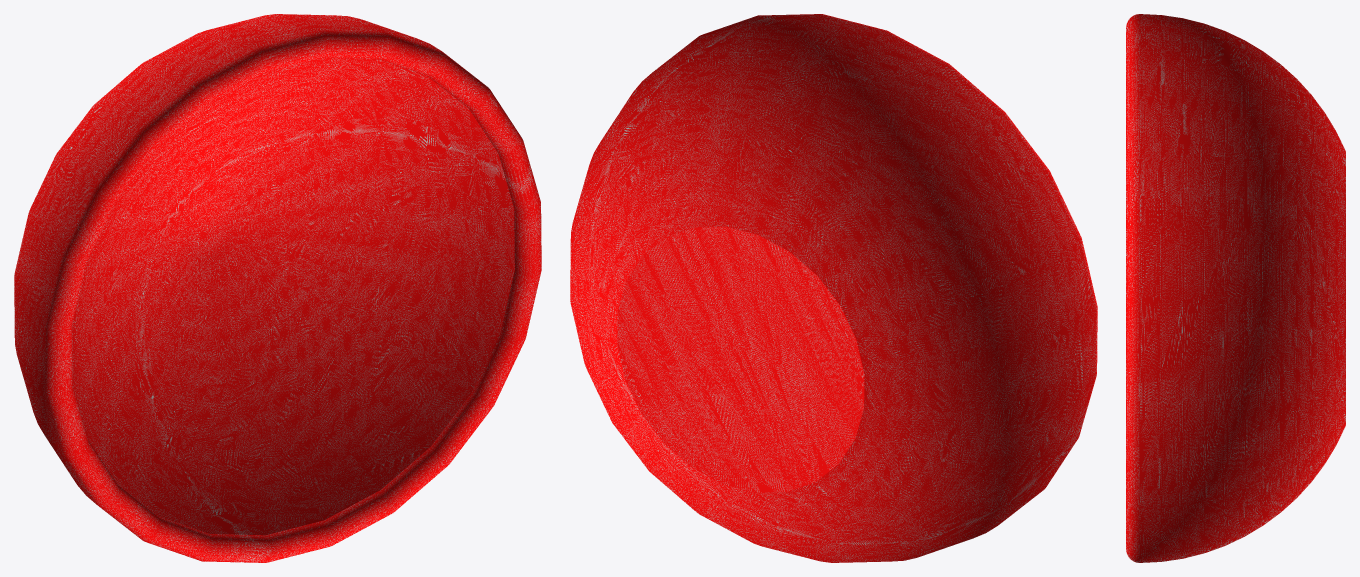
The model's file is model_align.obj.
3 views of the same model, side by side, from view 1: azimuth 30°, elevation 25°; view 2: azimuth 150°, elevation 25°; view 3: azimuth 270°, elevation 25° (orthographic). The views are drawn at different scales.
Visible parts, largest first — view 1: mesh1_mesh1-geometry; view 2: mesh1_mesh1-geometry; view 3: mesh1_mesh1-geometry.
Part boxes in pixels (x1,y1,x2,y2): mesh1_mesh1-geometry: (14, 14, 541, 562); mesh1_mesh1-geometry: (570, 14, 1097, 562); mesh1_mesh1-geometry: (1126, 14, 1345, 562).
Bounding box in the file's own units: 0.148 × 0.148 × 0.0596.
